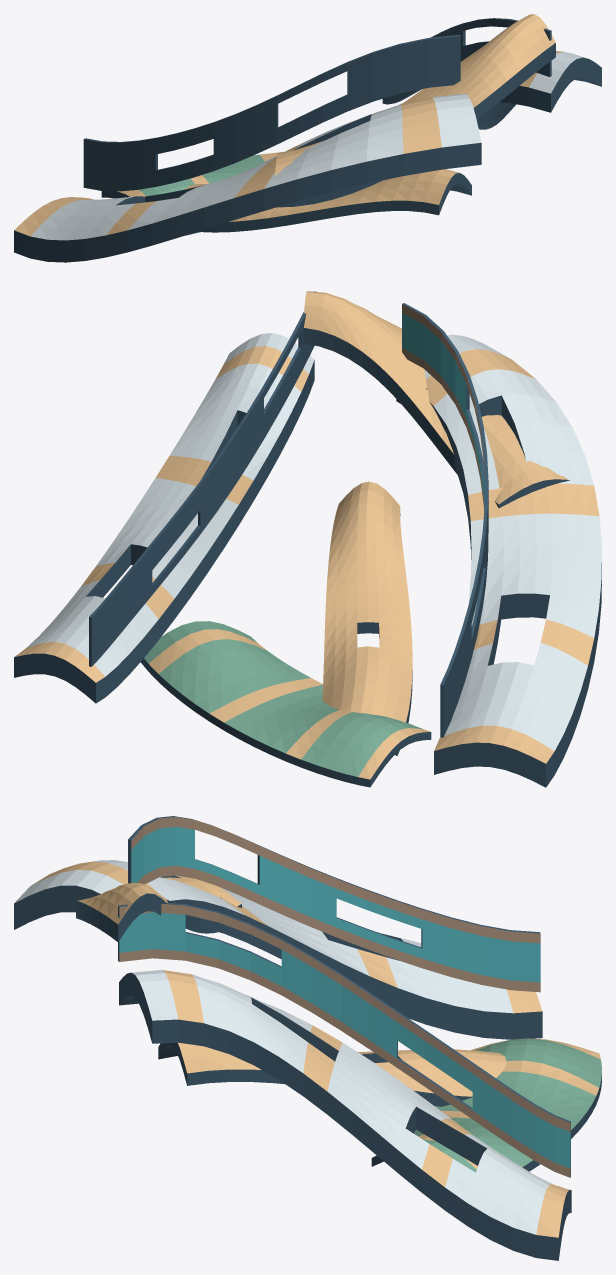
Rendered from a30_pierced_cityland.obj.
3 views of the same model, one above another, from view 1: azimuth 30°, elevation 25°; view 2: azimuth 150°, elevation 25°; view 3: azimuth 270°, elevation 25° (orthographic). The views are drawn at different scales.
Bounding box in the file's own units: 335 × 180 × 300.
